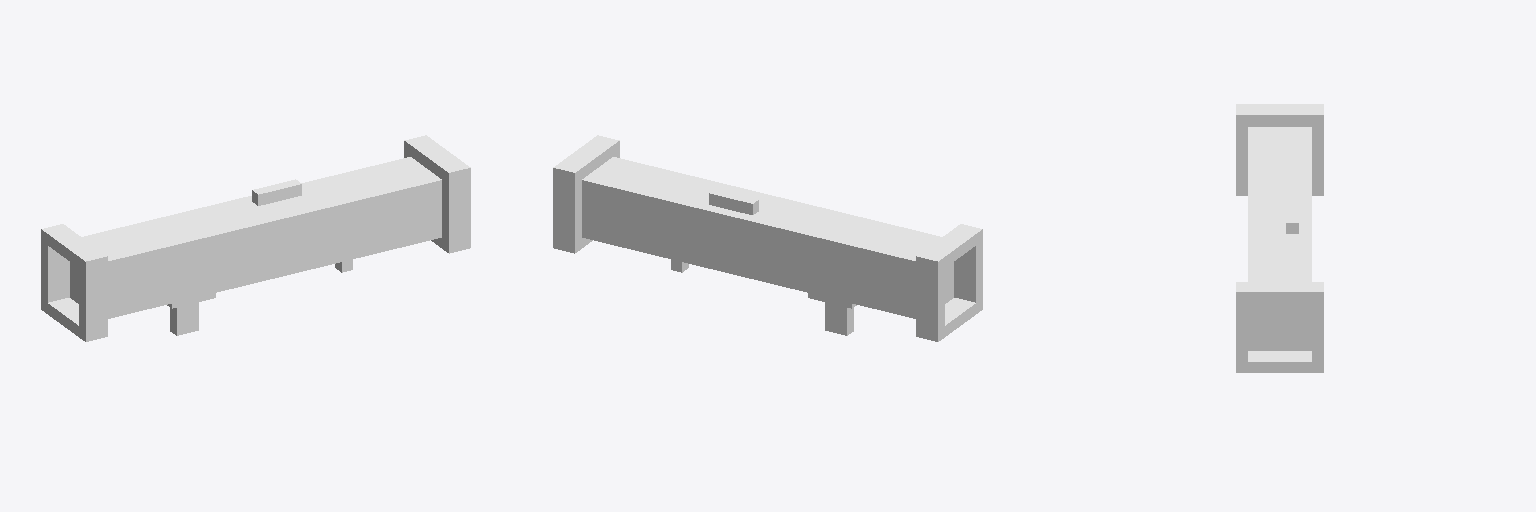
The model's file is RocketLauncher.obj.
3 views of the same model, side by side, from view 1: azimuth 30°, elevation 25°; view 2: azimuth 150°, elevation 25°; view 3: azimuth 270°, elevation 25° (orthographic).
Visible parts, largest first — view 1: RocketLauncher; view 2: RocketLauncher; view 3: RocketLauncher.
Boxes of the visible parts, <box> form: RocketLauncher: <box>41,135,470,341</box>; RocketLauncher: <box>553,135,982,341</box>; RocketLauncher: <box>1236,104,1323,372</box>.
Bounding box in the file's own units: 3.5 × 1 × 0.7.